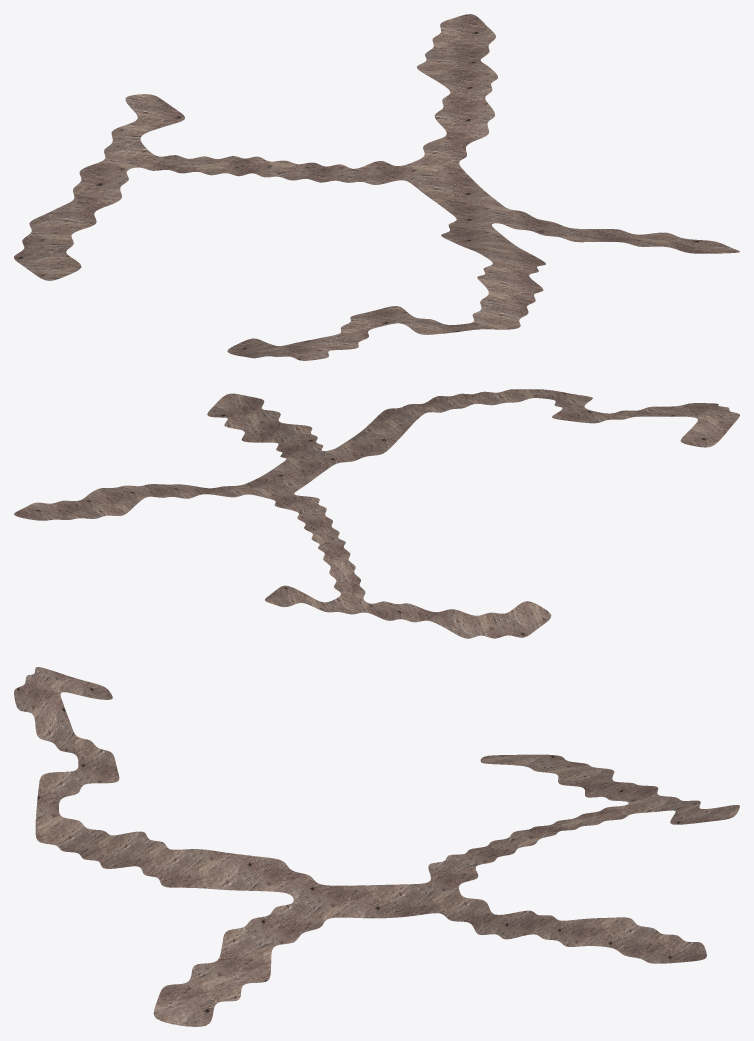
The model's file is path.glb.
3 renders of one model, top to bottom at view 1: azimuth 30°, elevation 25°; view 2: azimuth 150°, elevation 25°; view 3: azimuth 270°, elevation 25°, orthographic. The views are drawn at different scales.
Parts seen in each view (by area): view 1: path; view 2: path; view 3: path.
Boxes of the visible parts, box(x1,y1,x2,y2) form: path: box(14, 14, 739, 360); path: box(14, 389, 739, 638); path: box(14, 667, 739, 1026).
Bounding box in the file's own units: 15.7 × 2.23 × 17.04.
Materials: 1 (1 with a texture image).
